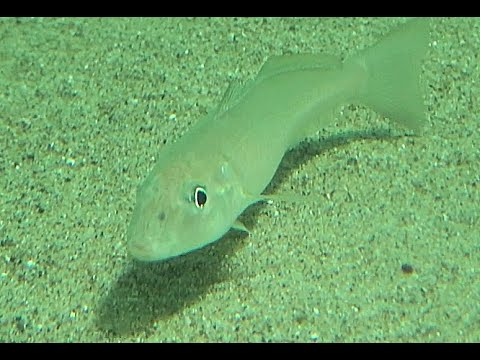kiss: (124, 16, 435, 274)
